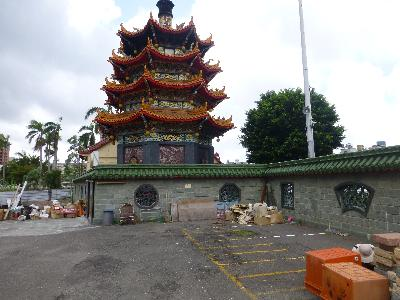box: (305, 245, 362, 297), (318, 260, 391, 299)
bucket: (102, 208, 115, 226)
